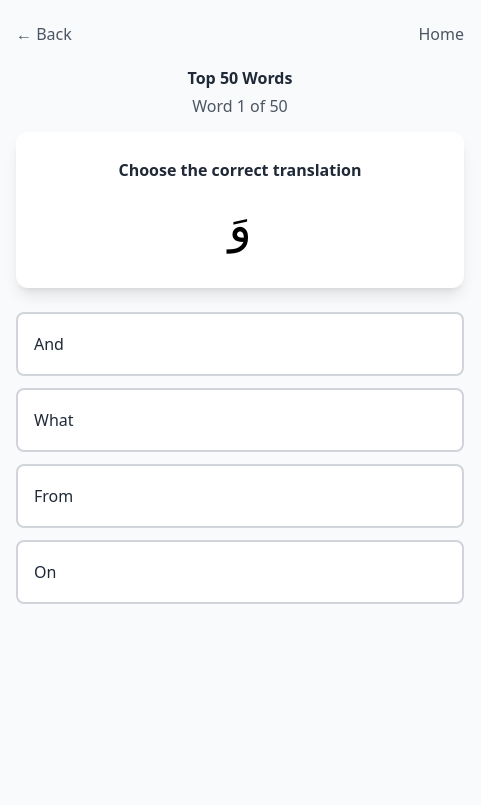
Test: Word Practice Page Integration Tests › Score Tracking › should display score after answering questions
The width and height of the screenshot is (481, 805).
Click the button "And": (49, 344) [16,312,464,376]
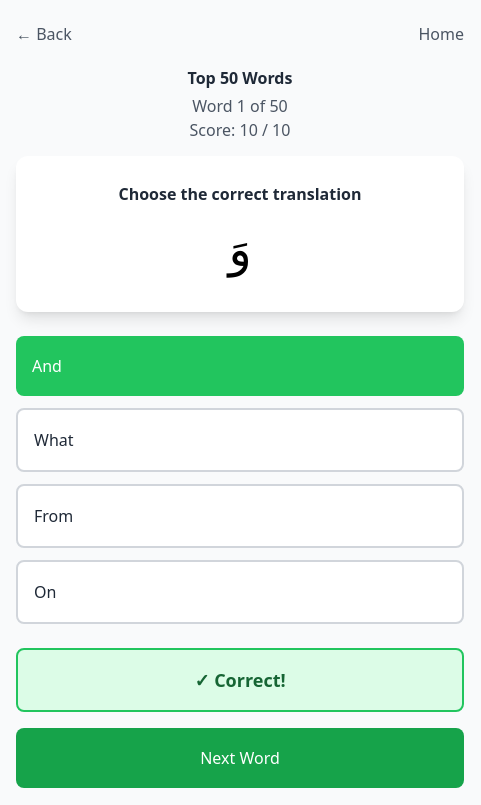
Result: the text "Score: 10 / 10" is shown at [190,119,290,141]
